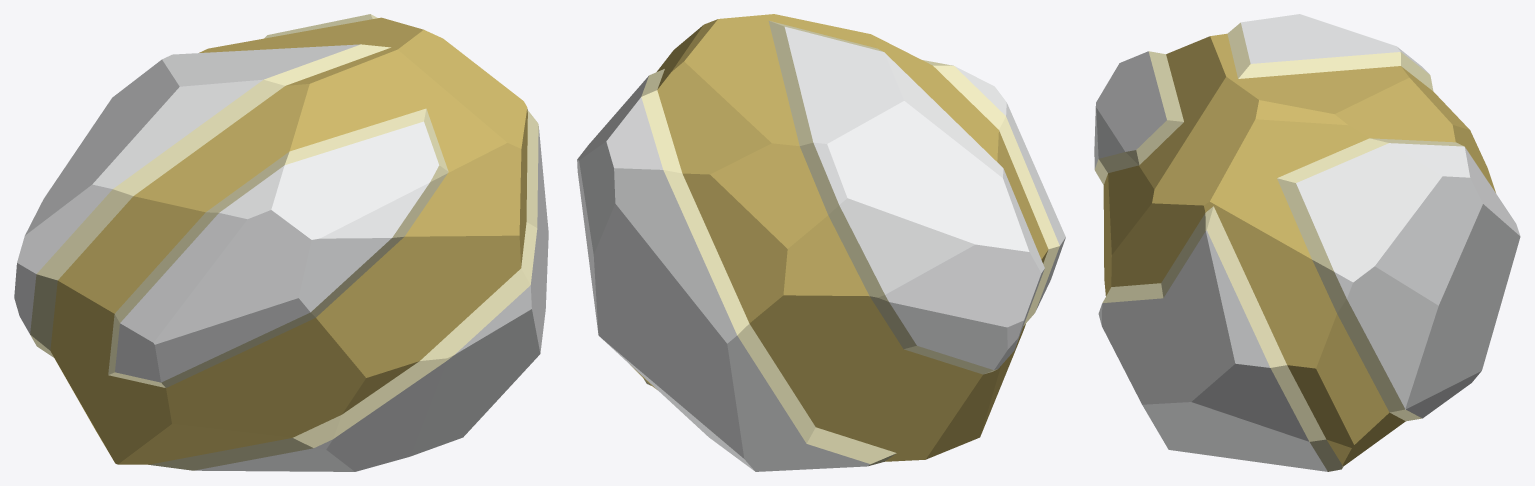
The model's file is gold-ore-chunk-6f1d9e.glb.
3 renders of one model, left to right at view 1: azimuth 30°, elevation 25°; view 2: azimuth 150°, elevation 25°; view 3: azimuth 270°, elevation 25°, orthographic. The views are drawn at different scales.
Visible parts, largest first — view 1: vein, rock; view 2: rock, vein; view 3: rock, vein.
Part boxes in pixels (x1,y1,x2,y2): vein: (30, 14, 538, 470); rock: (14, 44, 548, 471); rock: (577, 27, 1065, 471); vein: (630, 14, 1059, 466); rock: (1094, 14, 1520, 471); vein: (1094, 22, 1495, 471).
Bounding box in the file's own units: 0.2123 × 0.1547 × 0.1667.
